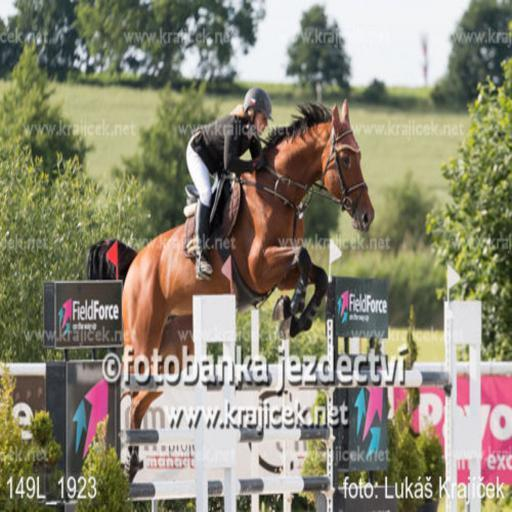horse: (122, 94, 377, 463)
